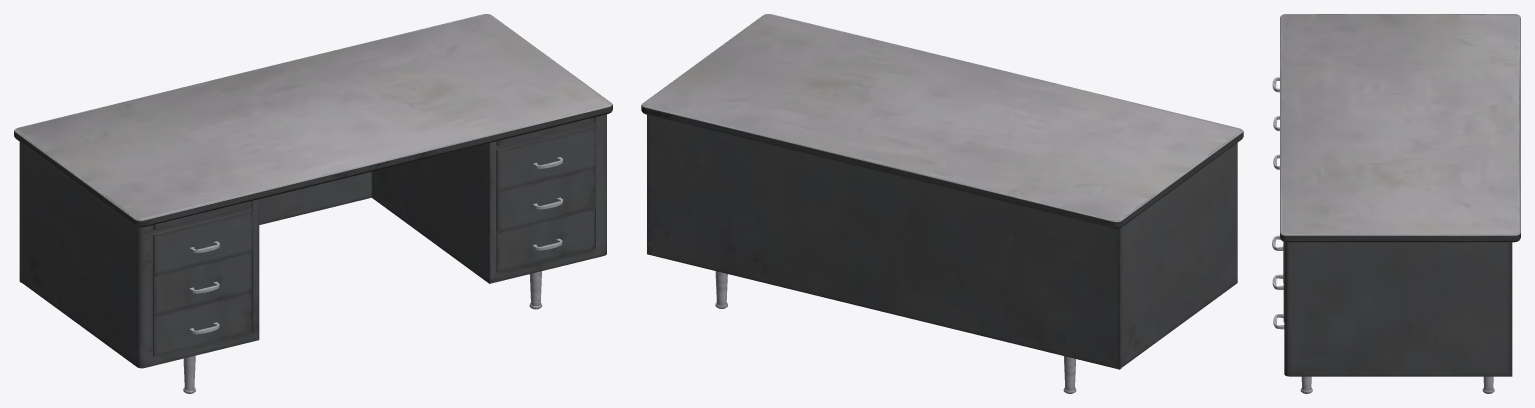
The model's file is office-desk.glb.
The picture shows the model from 3 angles, left to right: view 1: azimuth 30°, elevation 25°; view 2: azimuth 150°, elevation 25°; view 3: azimuth 270°, elevation 25°; orthographic projection. The views are drawn at different scales.
Parts seen in each view (by area): view 1: metal_office_desk, metal_office_desk_drawer_04, metal_office_desk_drawer_01, metal_office_desk_drawer_02, metal_office_desk_drawer_03, metal_office_desk_drawer_06, metal_office_desk_drawer_05, metal_office_desk_tray_01, metal_office_desk_tray_02; view 2: metal_office_desk; view 3: metal_office_desk.
Part boxes in pixels (<box>): metal_office_desk: <box>14,14,612,393</box>; metal_office_desk_drawer_04: <box>153,210,252,275</box>; metal_office_desk_drawer_01: <box>496,126,595,191</box>; metal_office_desk_drawer_02: <box>496,167,595,231</box>; metal_office_desk_drawer_03: <box>496,208,594,272</box>; metal_office_desk_drawer_06: <box>153,292,251,356</box>; metal_office_desk_drawer_05: <box>153,252,251,315</box>; metal_office_desk_tray_01: <box>153,201,251,230</box>; metal_office_desk_tray_02: <box>496,117,594,146</box>; metal_office_desk: <box>641,14,1243,393</box>; metal_office_desk: <box>1280,14,1520,393</box>.
Bounding box in the file's own units: 2.3 × 0.9056 × 1.09.
1 material, 1 textured.
